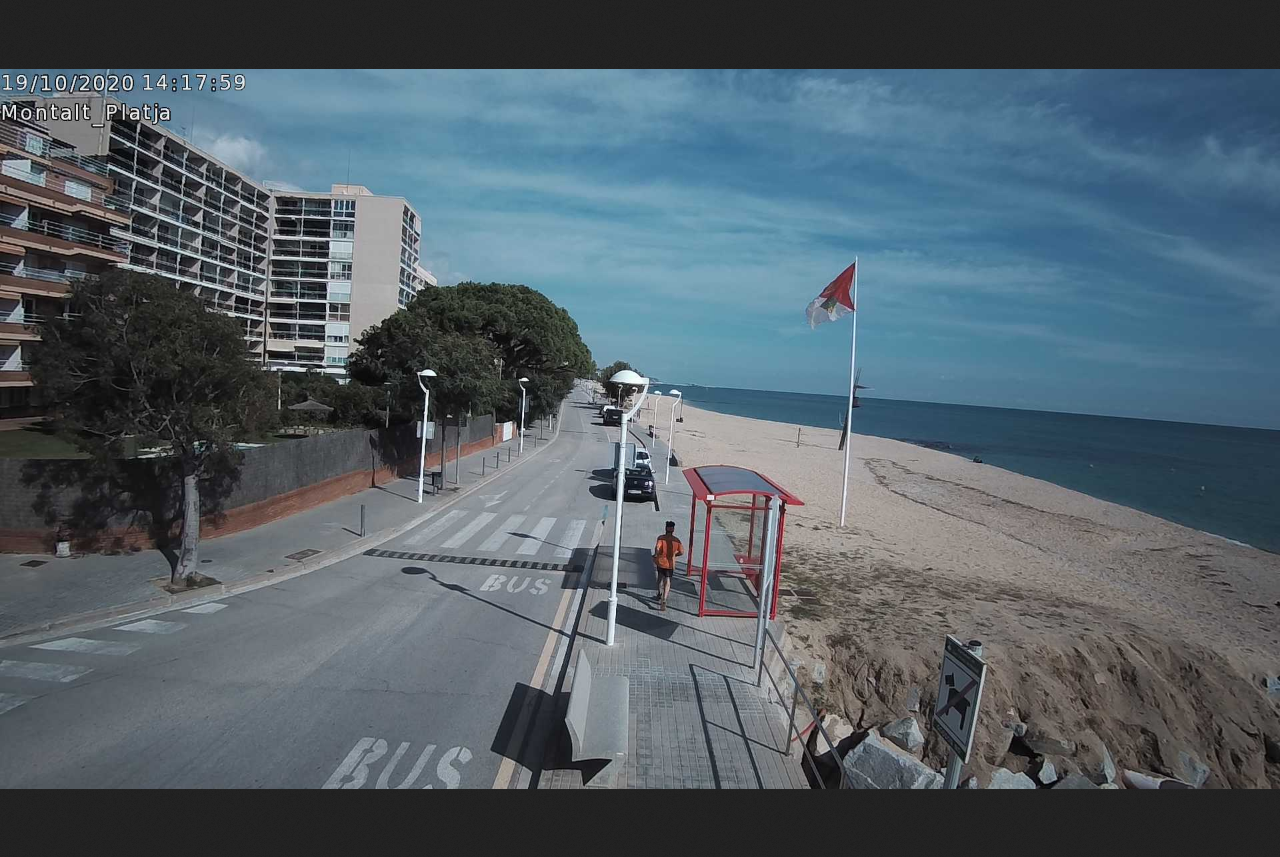maybe: (804, 263, 857, 329)
